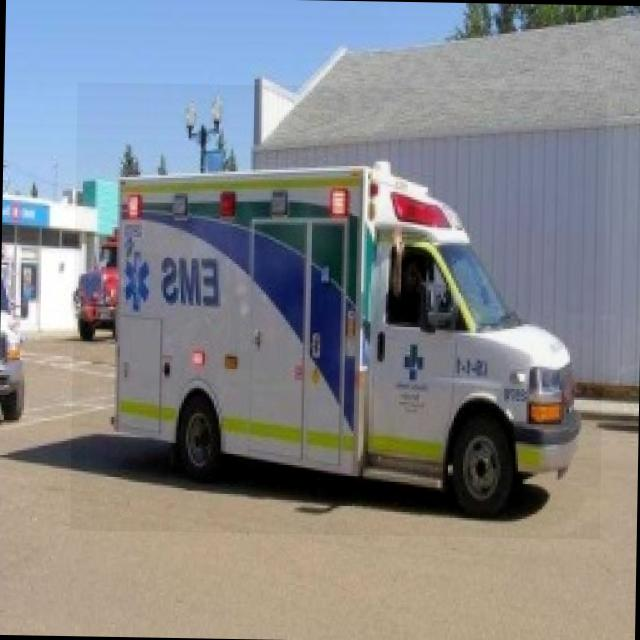ambulance: (69, 82, 607, 539)
